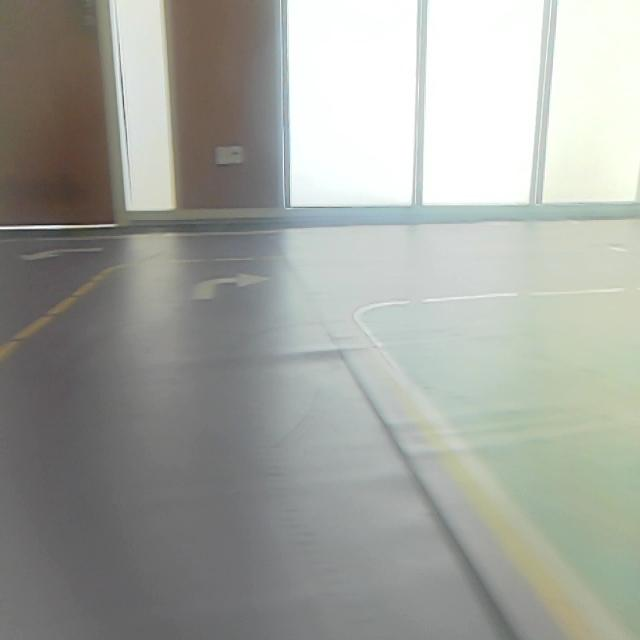left_lane: (0, 271, 116, 359)
right_lane: (353, 321, 621, 635)
